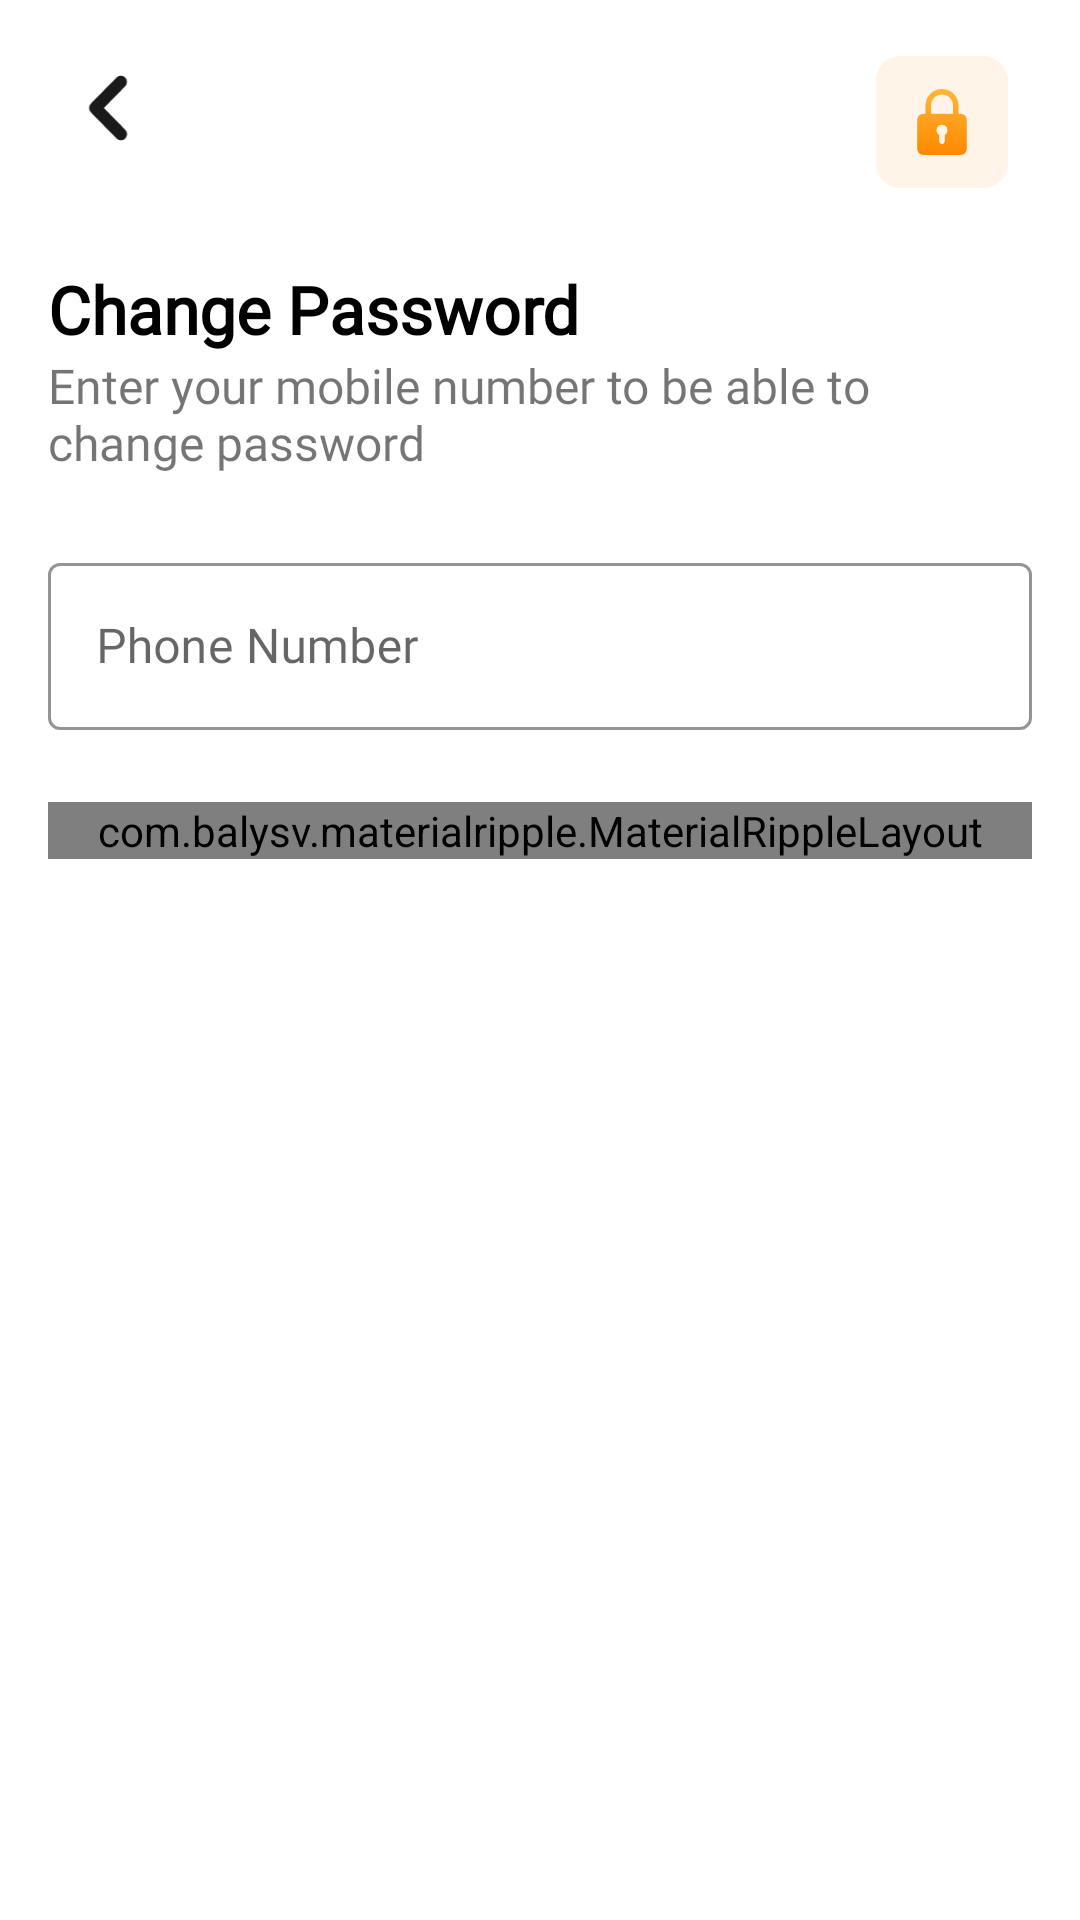

Icons on this 1080*1920 Android screen, each with its box as BBox(x1, y1, x2, y2):
back: BBox(88, 75, 128, 141)
lock: BBox(917, 89, 967, 155)
